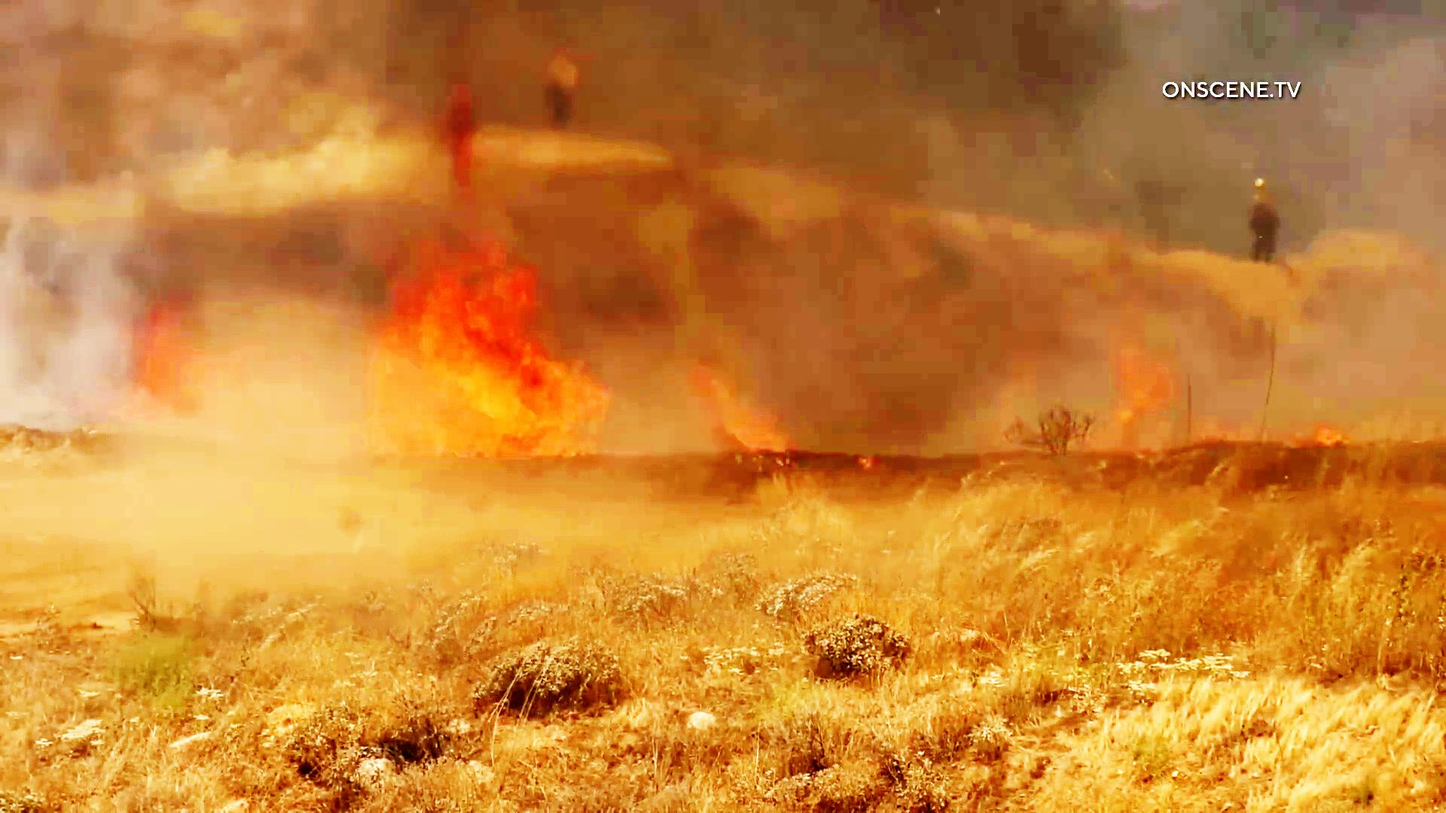fire: (371, 228, 621, 444), (104, 337, 252, 426), (680, 364, 808, 457), (1109, 358, 1189, 443)
